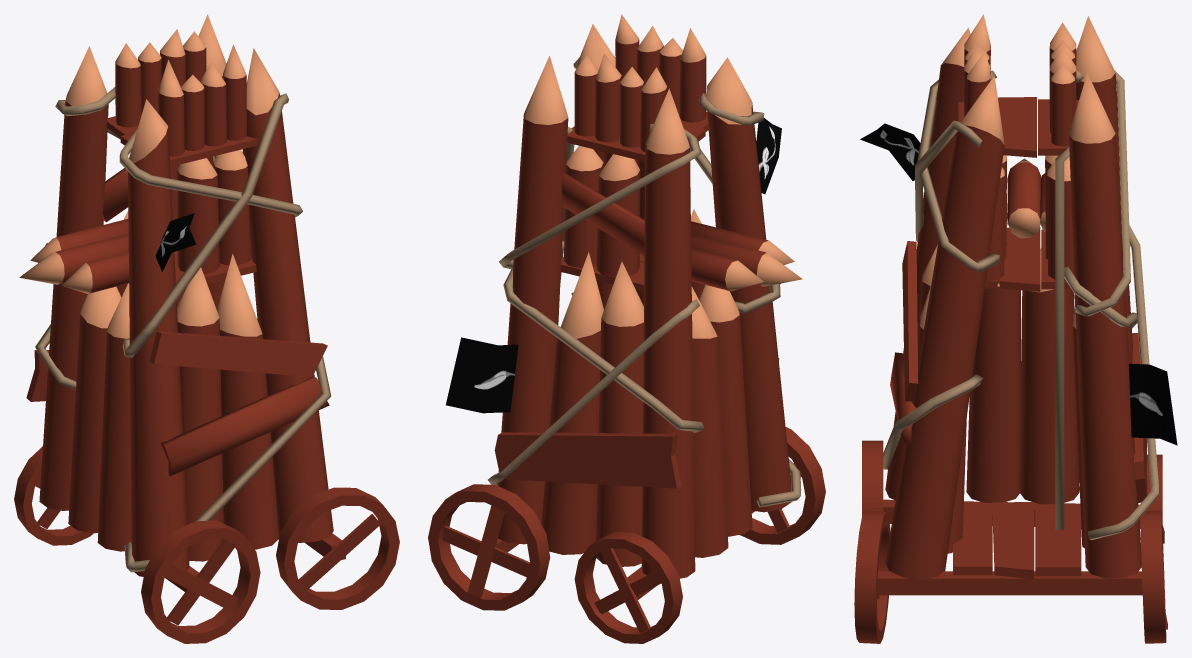
The model's file is meshSiegeTower.fbx.
3 views of the same model, side by side, from view 1: azimuth 30°, elevation 25°; view 2: azimuth 150°, elevation 25°; view 3: azimuth 270°, elevation 25° (orthographic). The views are drawn at different scales.
Parts seen in each view (by area): view 1: Cylinder.027; view 2: Cylinder.027; view 3: Cylinder.027.
Part boxes in pixels (x1,y1,x2,y2): Cylinder.027: [14, 14, 399, 643]; Cylinder.027: [428, 14, 825, 643]; Cylinder.027: [854, 14, 1177, 643].
Size of the model in its own units: 433 by 736 by 382.
